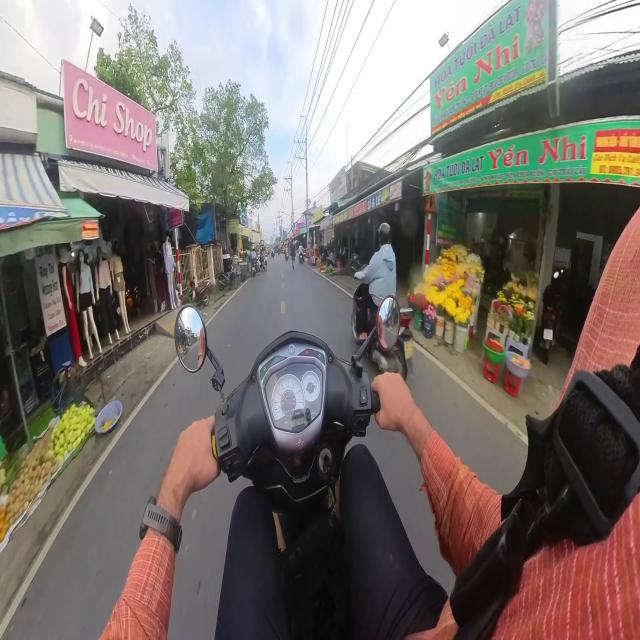motorcycle: (175, 306, 379, 638), (351, 284, 413, 380), (192, 278, 210, 308), (250, 259, 258, 276), (298, 254, 304, 263), (285, 251, 288, 260)
